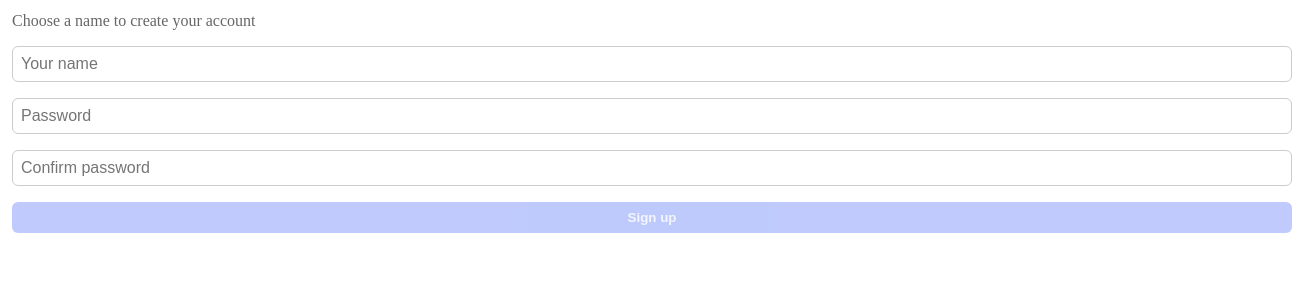
Scenario: server error during signup
Type "Alice" into the field with placeholder "Your name" at point(652, 64), box [12,46,1292,82]
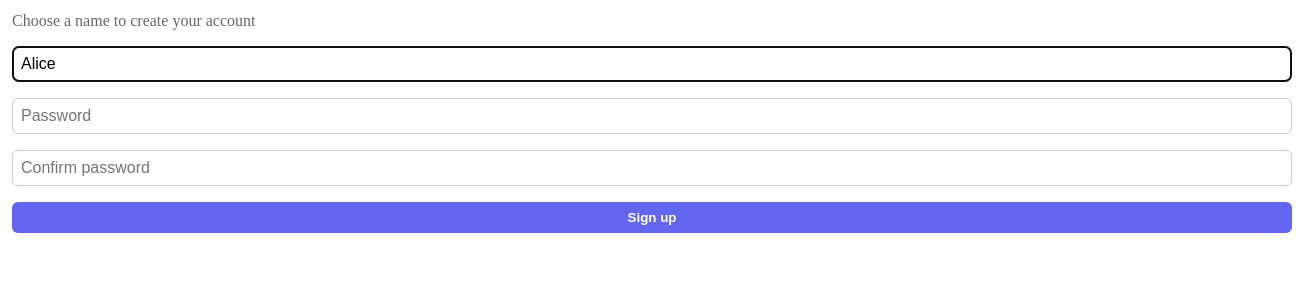
Click the button "Sign up" at point(652, 218), box [12,202,1292,233]
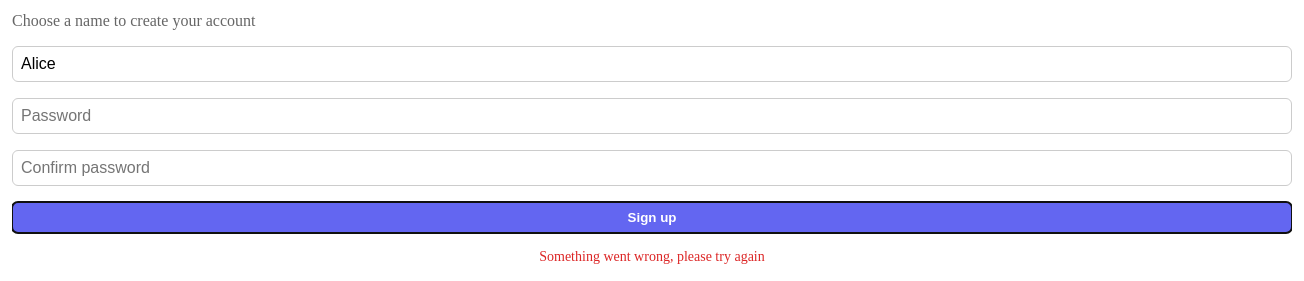
Now the text "Something went wrong, please try again" is shown, box [539,249,765,264]
